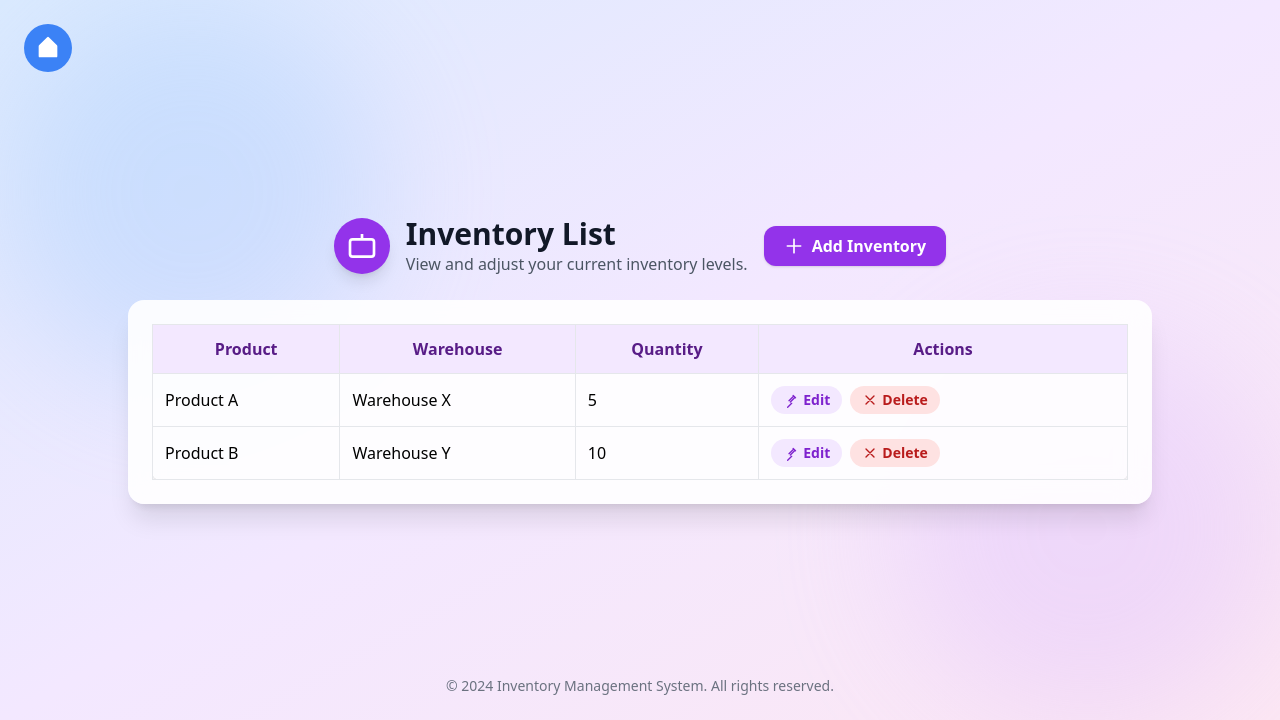
Scenario: InventoryListPage › deletes an inventory record and refreshes the list
The width and height of the screenshot is (1280, 720).
Expected: the text "Product A" is shown, x1=152 y1=374 x2=340 y2=426
Click the button "Delete" in the row of "Product A": (895, 400) x1=850 y1=386 x2=940 y2=414
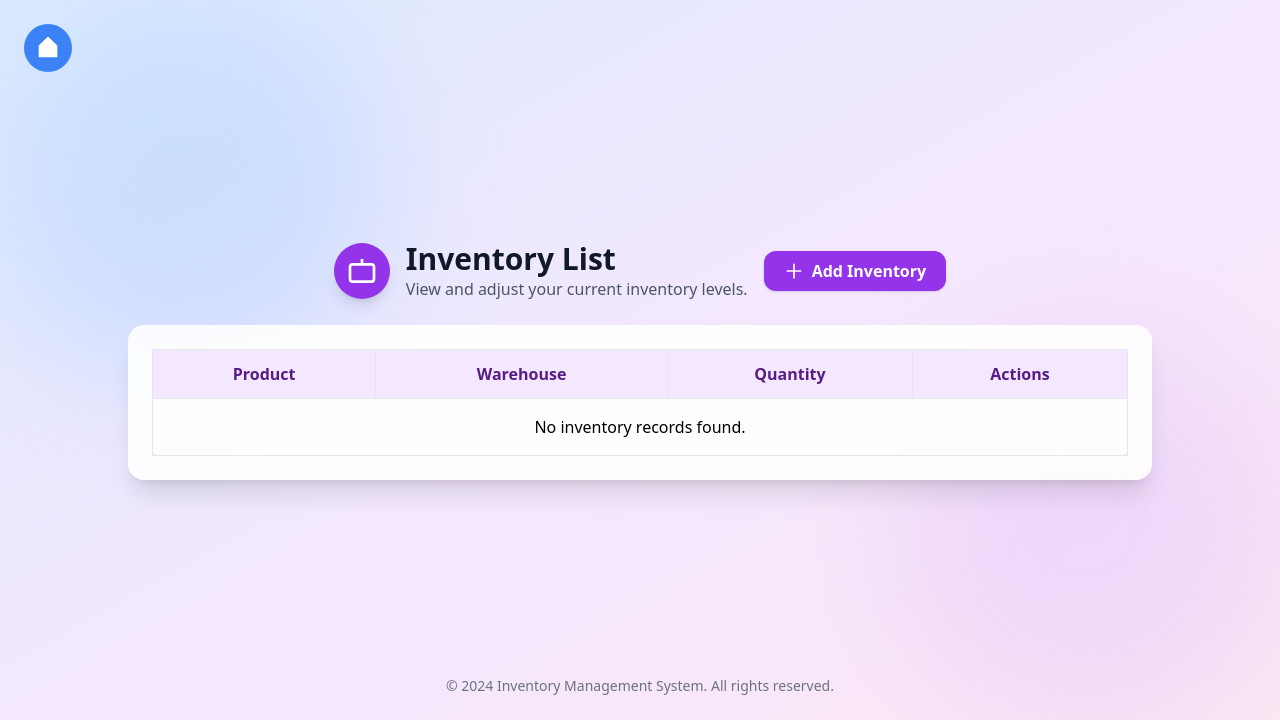
Expected: the text "No inventory records found." is shown, x1=152 y1=398 x2=1128 y2=455
